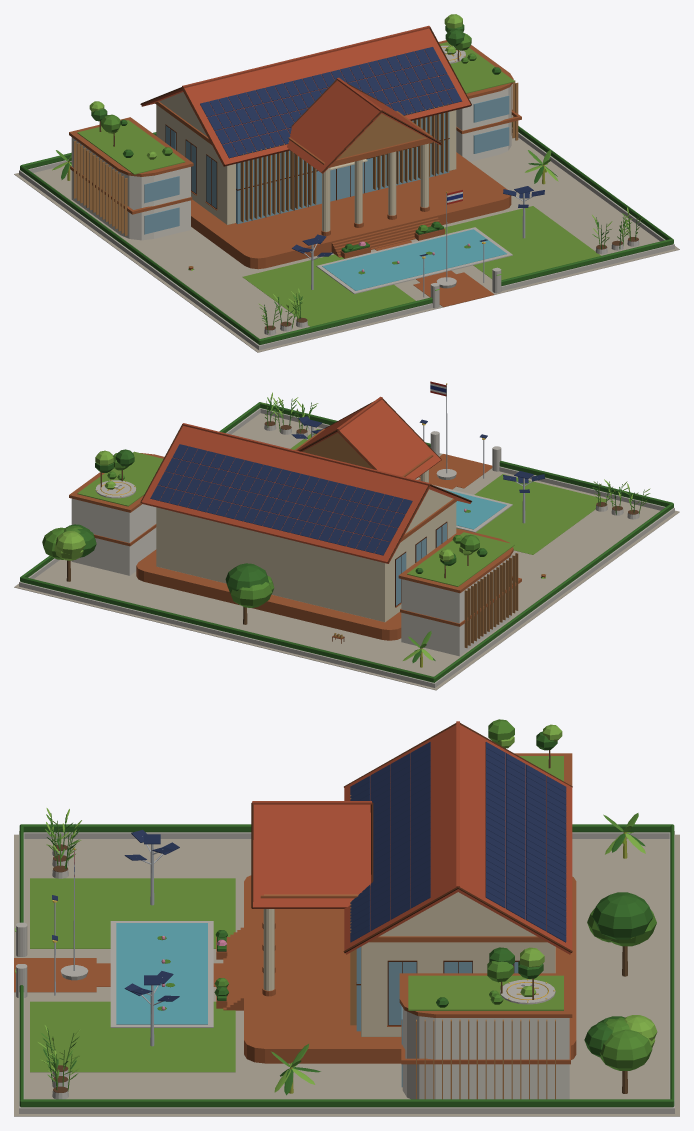
File: ruler_house.glb
3 renders of one model, top to bottom at view 1: azimuth 30°, elevation 25°; view 2: azimuth 150°, elevation 25°; view 3: azimuth 270°, elevation 25°, orthographic. The views are drawn at different scales.
Parts seen in each view (by area): view 1: body; view 2: body; view 3: body.
Part boxes in pixels (<box>): body: <box>14,14,679,352</box>; body: <box>14,381,679,690</box>; body: <box>14,719,679,1116</box>.
Size of the model in its own units: 47.9 by 14.13 by 47.9.
